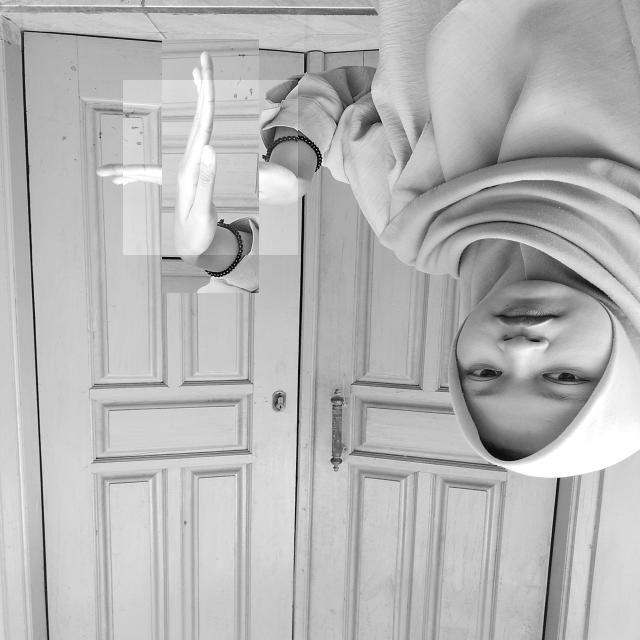adik: (123, 78, 298, 254)
